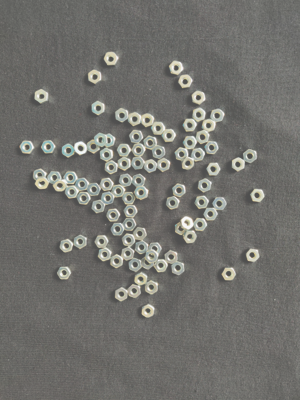nut: (103, 52, 119, 66), (169, 61, 185, 75), (35, 89, 49, 105), (88, 70, 102, 85), (91, 101, 105, 116), (192, 91, 206, 106), (162, 129, 177, 143), (210, 109, 225, 123), (204, 141, 219, 155), (183, 136, 198, 150), (191, 148, 206, 162), (94, 133, 108, 148), (102, 133, 116, 148), (152, 145, 166, 160), (243, 149, 257, 164), (75, 178, 90, 192), (180, 216, 194, 231), (57, 266, 72, 280), (171, 261, 185, 276), (128, 112, 142, 126), (193, 108, 207, 122), (202, 119, 216, 133), (196, 130, 210, 144), (175, 147, 189, 161), (129, 130, 143, 144), (105, 161, 119, 175), (157, 158, 171, 172), (92, 200, 106, 214), (198, 179, 212, 193), (195, 196, 209, 210), (194, 218, 208, 232), (133, 227, 147, 241), (246, 249, 260, 263), (135, 241, 149, 255), (121, 247, 135, 261), (145, 250, 159, 264), (178, 75, 193, 88), (141, 113, 154, 128), (151, 122, 166, 135), (183, 119, 198, 132), (182, 156, 195, 171), (20, 141, 35, 154), (41, 141, 56, 154), (74, 141, 87, 156), (132, 144, 147, 157), (117, 144, 132, 157), (53, 179, 68, 192), (77, 192, 92, 205), (134, 186, 149, 199), (122, 218, 137, 231), (250, 189, 265, 202), (212, 198, 227, 211), (203, 208, 218, 221), (222, 268, 237, 281), (74, 235, 87, 250), (154, 260, 169, 273), (128, 284, 141, 299), (115, 287, 128, 302), (142, 304, 155, 319), (62, 144, 75, 158), (87, 140, 100, 154), (144, 136, 157, 150), (100, 148, 113, 162), (118, 157, 131, 171), (131, 157, 145, 170), (144, 159, 157, 173), (207, 163, 221, 176), (232, 158, 245, 172), (33, 169, 47, 182), (64, 172, 78, 185), (65, 186, 79, 199), (87, 183, 101, 196), (100, 178, 114, 191), (119, 174, 132, 188), (133, 174, 146, 188), (112, 185, 126, 198), (101, 192, 115, 205), (107, 209, 121, 222), (173, 184, 186, 198), (166, 197, 180, 210), (60, 239, 73, 253), (98, 248, 112, 261), (110, 254, 123, 268), (123, 233, 136, 247), (129, 258, 142, 272), (148, 243, 162, 256), (142, 256, 155, 270), (165, 250, 178, 264), (134, 273, 148, 286), (145, 281, 158, 295), (116, 108, 128, 123), (35, 177, 50, 189), (48, 172, 62, 184), (122, 193, 136, 205), (124, 205, 138, 217), (111, 224, 125, 236), (183, 231, 197, 243), (95, 236, 109, 248), (176, 223, 187, 236)
